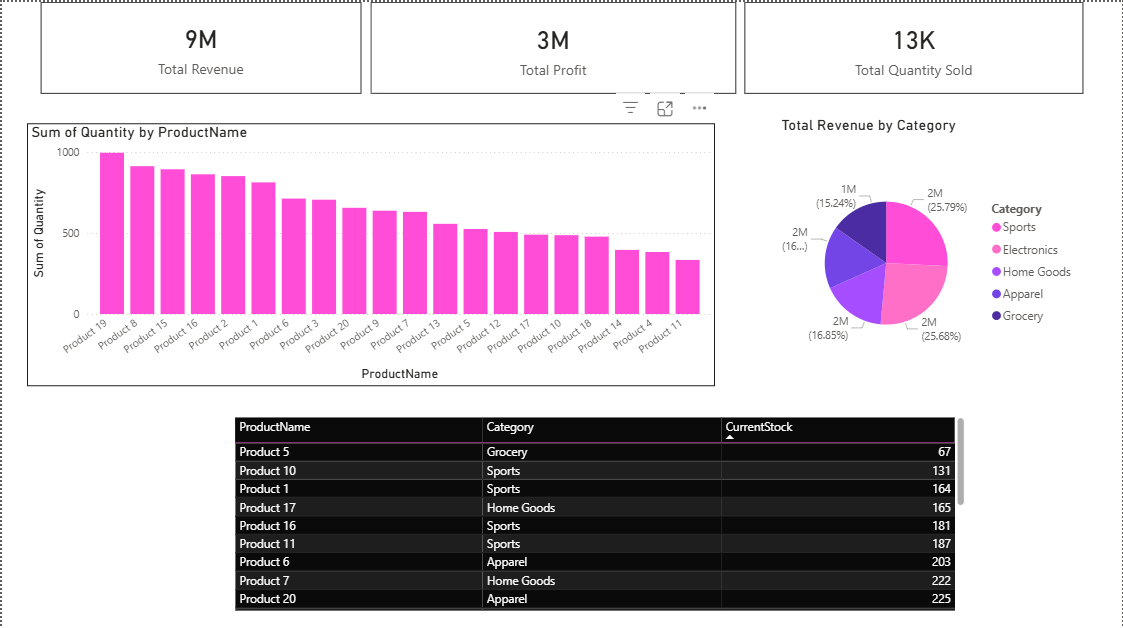

The page's visual inventory and layout, read from the dashboard file:
{"tool":"powerbi","page":{"name":"Page 1","canvas":[1280,720],"ordinal":0},"visuals":[{"type":"card","fields":{"Values":["Inventory.Total Profit"]},"box":[421.2,0,417.5,105],"z":0},{"type":"card","fields":{"Values":["Inventory.Total Quantity Sold"]},"box":[848.8,0,387.5,105],"z":1000},{"type":"clusteredColumnChart","fields":{"Category":["Products.ProductName"],"Y":["Sum(Sales.Quantity)"]},"box":[28,138,788,300],"z":2000},{"type":"pieChart","fields":{"Category":["Products.Category"],"Y":["Inventory.Total Revenue"]},"box":[886,130,350,318],"z":3000},{"type":"tableEx","fields":{"Values":["Products.ProductName","Products.Category","Inventory.CurrentStock"]},"box":[260.1,469.7,845,230.5],"z":4000},{"type":"card","fields":{"Values":["Inventory.Total Revenue"]},"box":[44.4,0,366.7,104.4],"z":5000}]}

Visuals, with their boxes in screenshot pixels (x1, y1, x2, y2), scaled from the page's 1280x720 canvas onto the 1123x628 screenshot:
card - Inventory.Total Profit: region(370, 0, 736, 92)
card - Inventory.Total Quantity Sold: region(745, 0, 1085, 92)
clusteredColumnChart - Products.ProductName x Sum(Sales.Quantity): region(25, 120, 716, 382)
pieChart - Products.Category x Inventory.Total Revenue: region(777, 113, 1084, 391)
tableEx - Products.ProductName x Products.Category: region(228, 410, 970, 611)
card - Inventory.Total Revenue: region(39, 0, 361, 91)
